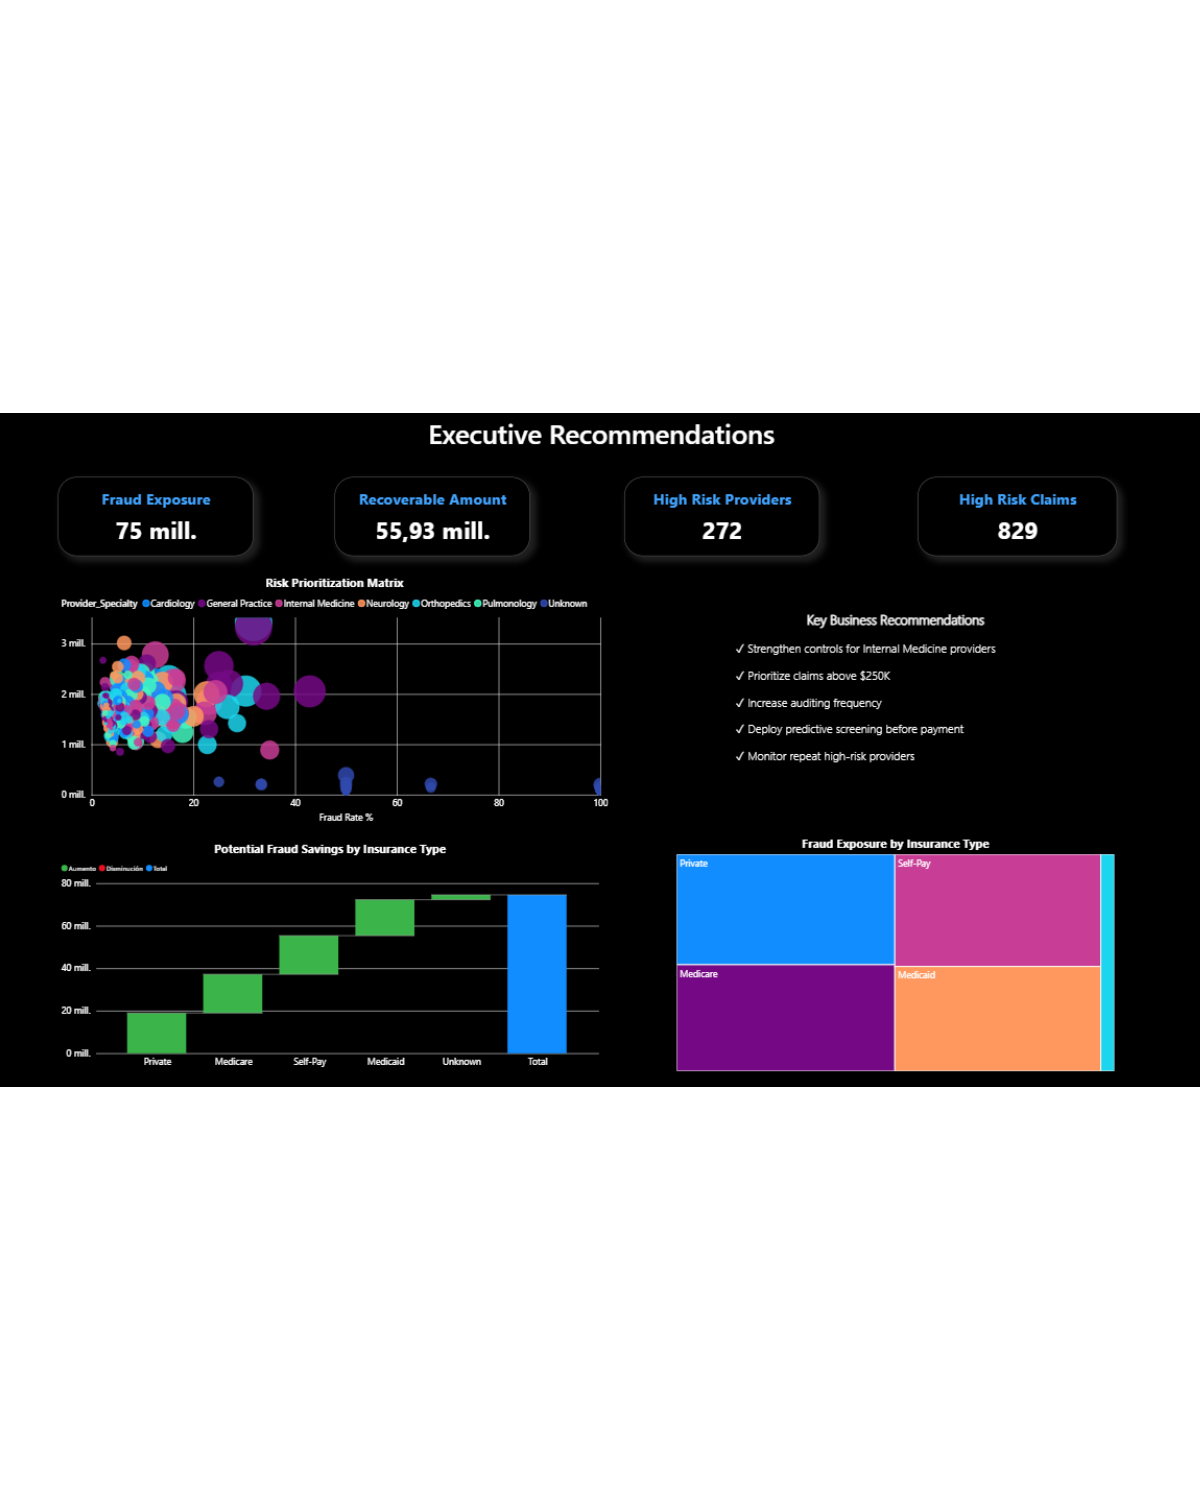

What the dashboard file says about the page in this screenshot:
{"tool":"powerbi","page":{"name":"Executive Recommendations","canvas":[1920,1080],"ordinal":5},"visuals":[{"type":"textbox","box":[6.2,0,1914.6,75],"z":0},{"type":"cardVisual","fields":{"Data":["healthcare_dashboard.Fraud Exposure"]},"box":[95.8,104.2,312,126],"z":1000},{"type":"cardVisual","fields":{"Data":["healthcare_dashboard.High Risk Providers"]},"box":[1000,104.2,312,126],"z":2000},{"type":"cardVisual","fields":{"Data":["healthcare_dashboard.Estimated Recoverable Amount"]},"box":[537.5,104.2,312,126],"z":3000},{"type":"cardVisual","fields":{"Data":["healthcare_dashboard.High Risk Claims"]},"box":[1468.8,104.2,318,126],"z":4000},{"type":"scatterChart","title":"Risk Prioritization Matrix","fields":{"Category":["healthcare_dashboard.Provider_ID"],"Series":["healthcare_dashboard.Provider_Specialty"],"Size":["healthcare_dashboard.Fraud Exposure"],"X":["healthcare_dashboard.Fraud Rate %"],"Y":["healthcare_dashboard.Claim Amount"]},"box":[95.8,260.4,883.3,402.1],"z":5000},{"type":"treemap","title":"Fraud Exposure by Insurance Type","fields":{"Group":["healthcare_dashboard.Insurance_Type"],"Values":["healthcare_dashboard.Fraud Exposure"]},"box":[1079.2,677.1,708.3,381.2],"z":6000},{"type":"waterfallChart","title":"Potential Fraud Savings by Insurance Type","fields":{"Category":["healthcare_dashboard.Insurance_Type"],"Y":["healthcare_dashboard.Fraud Exposure"]},"box":[95.8,685.4,868.8,372.9],"z":7000},{"type":"textbox","box":[1172.9,312.5,520.8,293.8],"z":8000}]}

Visuals, with their boxes on the page's 1920x1080 design canvas (x1, y1, x2, y2). These are canvas units, not pixel positions in the 1200x1500 screenshot, which may show the page scaled, cropped or inside an application window:
textbox: <bbox>6, 0, 1921, 75</bbox>
cardVisual - healthcare_dashboard.Fraud Exposure: <bbox>96, 104, 408, 230</bbox>
cardVisual - healthcare_dashboard.High Risk Providers: <bbox>1000, 104, 1312, 230</bbox>
cardVisual - healthcare_dashboard.Estimated Recoverable Amount: <bbox>538, 104, 850, 230</bbox>
cardVisual - healthcare_dashboard.High Risk Claims: <bbox>1469, 104, 1787, 230</bbox>
"Risk Prioritization Matrix" scatterChart: <bbox>96, 260, 979, 662</bbox>
"Fraud Exposure by Insurance Type" treemap: <bbox>1079, 677, 1788, 1058</bbox>
"Potential Fraud Savings by Insurance Type" waterfallChart: <bbox>96, 685, 965, 1058</bbox>
textbox: <bbox>1173, 312, 1694, 606</bbox>
